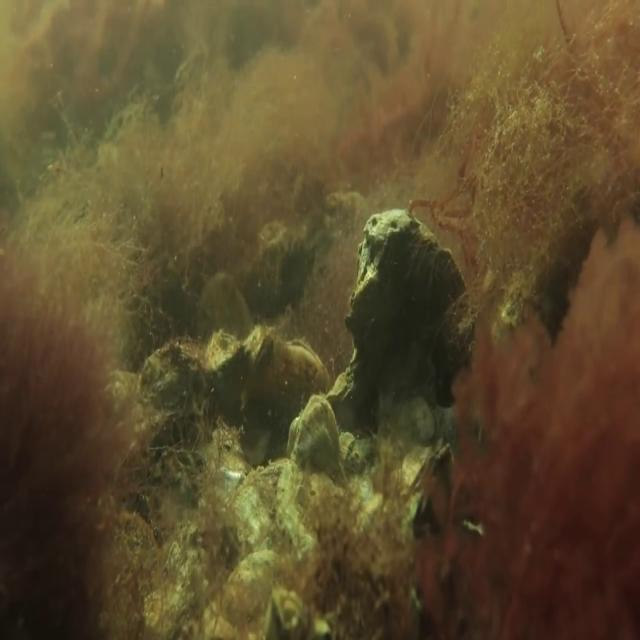Oyster-Closed: (282, 334, 335, 394), (394, 436, 439, 494), (203, 327, 244, 384), (248, 321, 269, 368)
Oyster-Indeterminate: (276, 387, 351, 487)
